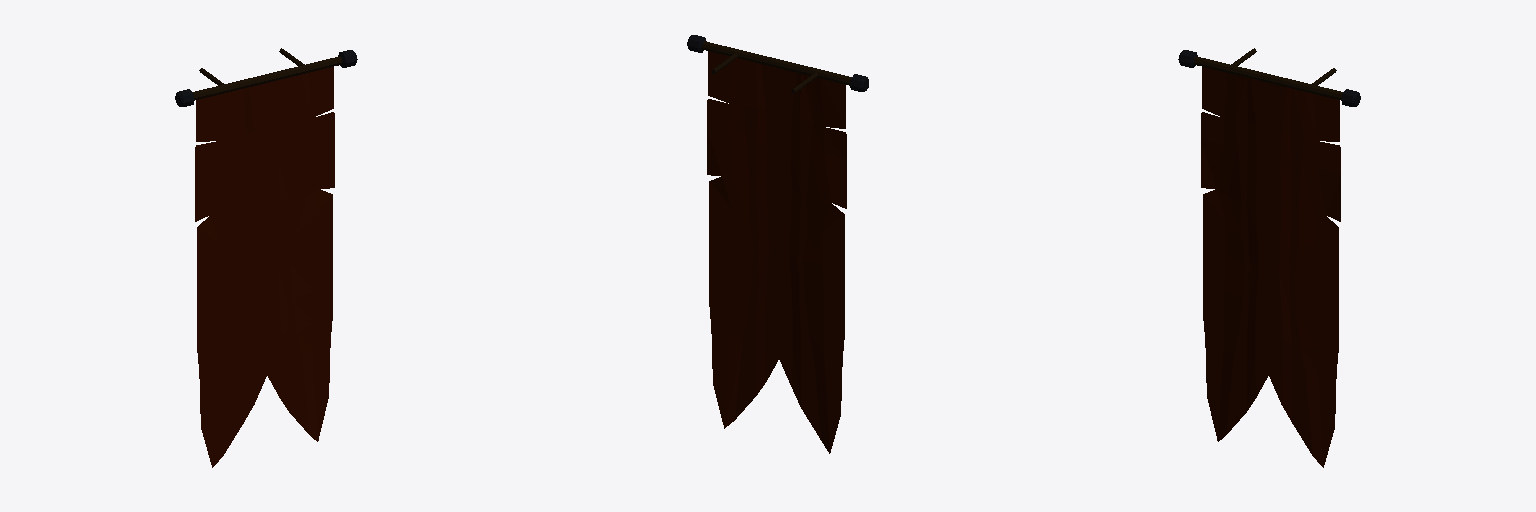
File: Flag_Wall2.obj
The picture shows the model from 3 angles: view 1: azimuth 30°, elevation 25°; view 2: azimuth 150°, elevation 25°; view 3: azimuth 330°, elevation 25°; orthographic projection.
Visible parts, largest first — view 1: Flag_Wall2_Cylinder.003; view 2: Flag_Wall2_Cylinder.003; view 3: Flag_Wall2_Cylinder.003.
Boxes of the visible parts, <box> form: Flag_Wall2_Cylinder.003: <box>175,48,357,467</box>; Flag_Wall2_Cylinder.003: <box>687,35,868,453</box>; Flag_Wall2_Cylinder.003: <box>1178,48,1360,467</box>.
Size of the model in its own units: 1.13 by 2.35 by 0.3224.